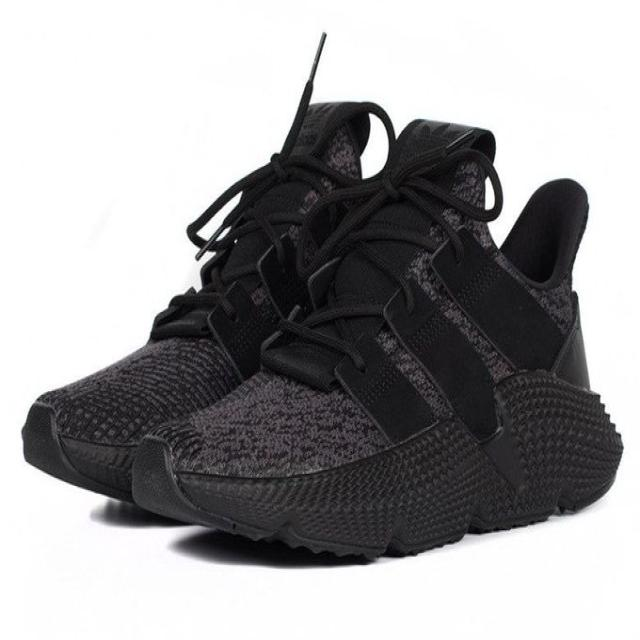shoe: (126, 110, 632, 576), (14, 74, 405, 545)
